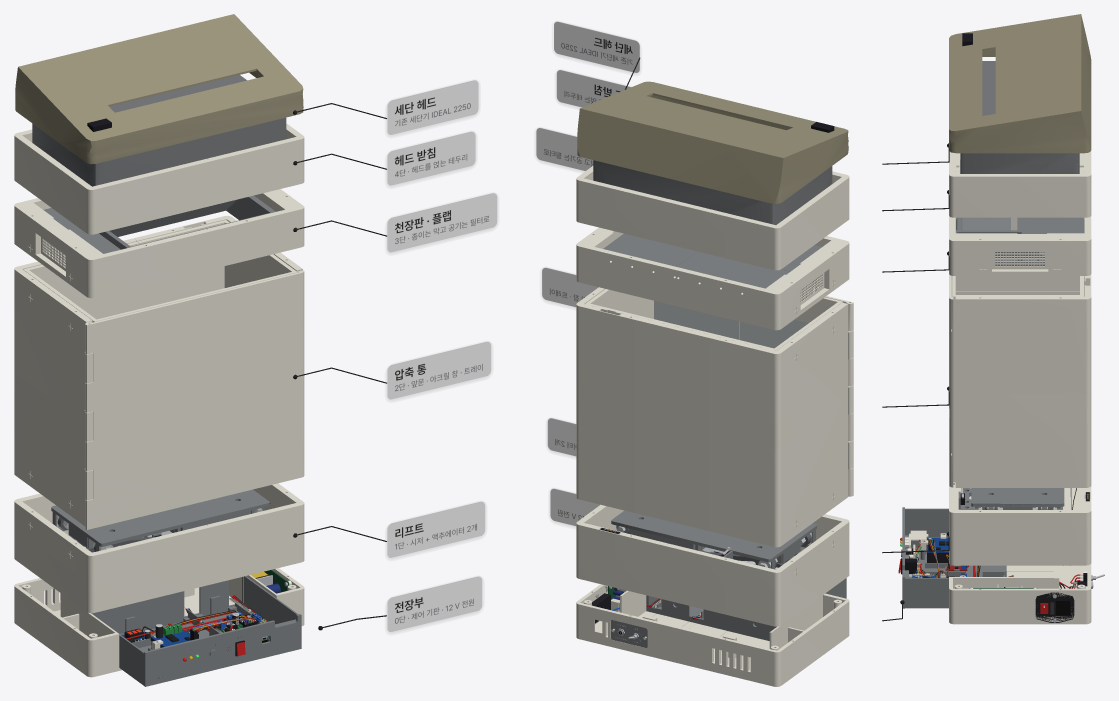
The picture shows the model from 3 angles, left to right: view 1: azimuth 30°, elevation 25°; view 2: azimuth 150°, elevation 25°; view 3: azimuth 270°, elevation 25°; orthographic projection. The views are drawn at different scales.
Parts seen in each view (by area): view 1: s2_door, head, c1_box, s2_outer, s3, s4, c0_drawer, c0_box, s2_bin, cal3, cal2, cal1 (+5 smaller); view 2: s2_outer, head, c1_box, s3, s4, c0_box, s2_bin, s2_door, cal5, c0_drawer, L_1-L6, L_1-L7 (+6 smaller); view 3: s2_outer, head, c1_box, s3, c0_box, s4, c0_drawer, s2_bin, L_1-L7, c0_fix, s2_door, s3_flap.
Part boxes in pixels (bbox=[...]): s2_door: bbox=[85, 270, 304, 529]; head: bbox=[15, 14, 303, 186]; c1_box: bbox=[14, 483, 304, 613]; s2_outer: bbox=[14, 215, 302, 526]; s3: bbox=[14, 189, 304, 298]; s4: bbox=[14, 123, 304, 234]; c0_drawer: bbox=[91, 576, 301, 686]; c0_box: bbox=[14, 568, 304, 677]; s2_bin: bbox=[23, 220, 297, 322]; cal3: bbox=[293, 193, 497, 252]; cal2: bbox=[293, 342, 491, 399]; cal1: bbox=[293, 501, 484, 557]; s2_outer: bbox=[576, 287, 853, 547]; head: bbox=[577, 81, 848, 224]; c1_box: bbox=[576, 504, 849, 626]; s3: bbox=[576, 227, 849, 330]; s4: bbox=[576, 166, 849, 270]; c0_box: bbox=[576, 584, 849, 686]; s2_bin: bbox=[585, 289, 843, 350]; s2_door: bbox=[654, 292, 853, 496]; cal5: bbox=[554, 21, 640, 89]; c0_drawer: bbox=[646, 578, 846, 640]; L_1-L6: bbox=[690, 523, 816, 569]; L_1-L7: bbox=[611, 510, 703, 548]; s2_outer: bbox=[951, 221, 1091, 487]; head: bbox=[949, 14, 1091, 173]; c1_box: bbox=[949, 418, 1091, 565]; s3: bbox=[949, 153, 1091, 275]; c0_box: bbox=[949, 563, 1091, 624]; s4: bbox=[949, 150, 1091, 217]; c0_drawer: bbox=[898, 507, 1013, 608]; s2_bin: bbox=[951, 217, 1083, 482]; L_1-L7: bbox=[971, 488, 1064, 509]; c0_fix: bbox=[969, 573, 1104, 622]; s2_door: bbox=[949, 274, 954, 487]; s3_flap: bbox=[961, 217, 1010, 230].
Size of the model in its own units: 0.6034 by 0.849 by 0.3342.
76 materials, 10 textured.
